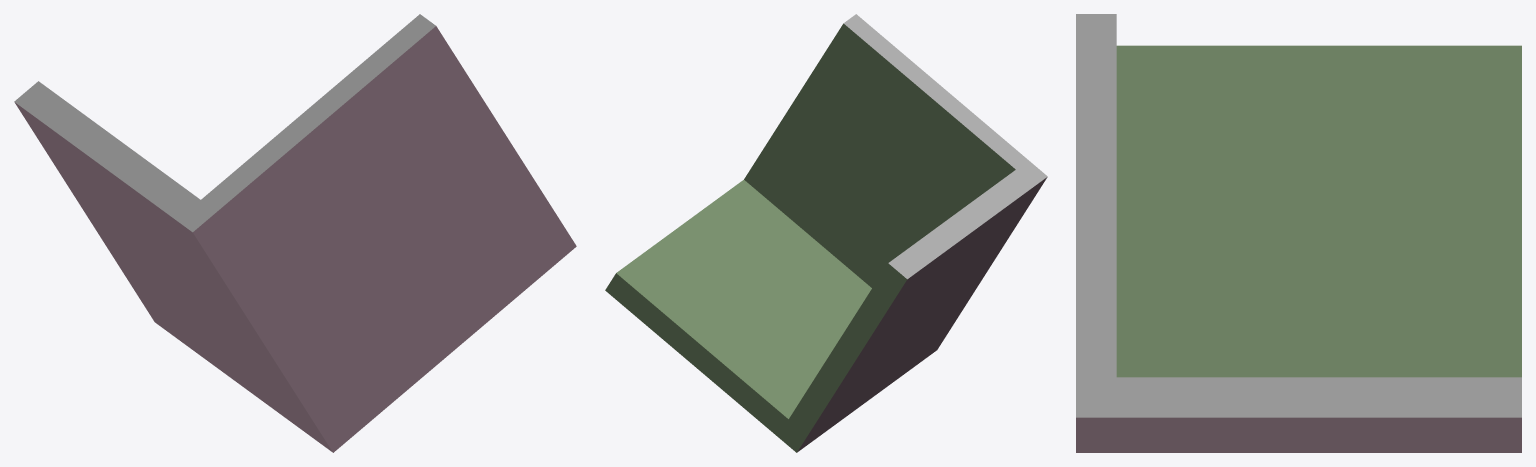
The model's file is curlingoverhang100M_3side8.fbx.
The picture shows the model from 3 angles, left to right: view 1: azimuth 30°, elevation 25°; view 2: azimuth 150°, elevation 25°; view 3: azimuth 270°, elevation 25°; orthographic projection. The views are drawn at different scales.
Parts seen in each view (by area): view 1: overhang100M_3side8; view 2: overhang100M_3side8; view 3: overhang100M_3side8.
Part boxes in pixels (left/top/right/bottom): overhang100M_3side8: left=14, top=14, right=576, bottom=452; overhang100M_3side8: left=605, top=14, right=1047, bottom=452; overhang100M_3side8: left=1076, top=14, right=1521, bottom=452.
Size of the model in its own units: 137 by 137 by 110.
